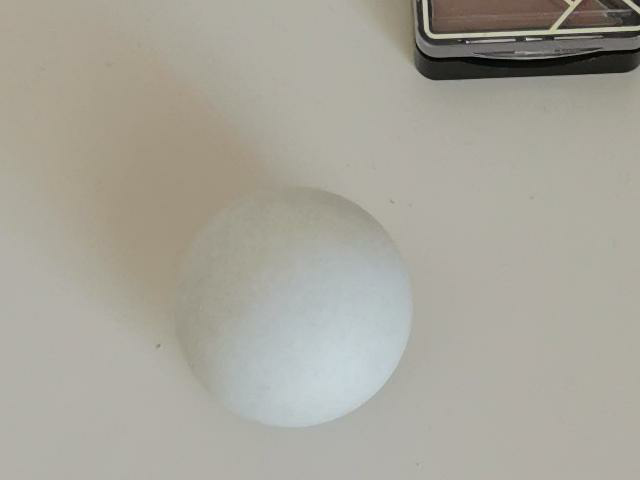ball: (178, 187, 410, 428)
